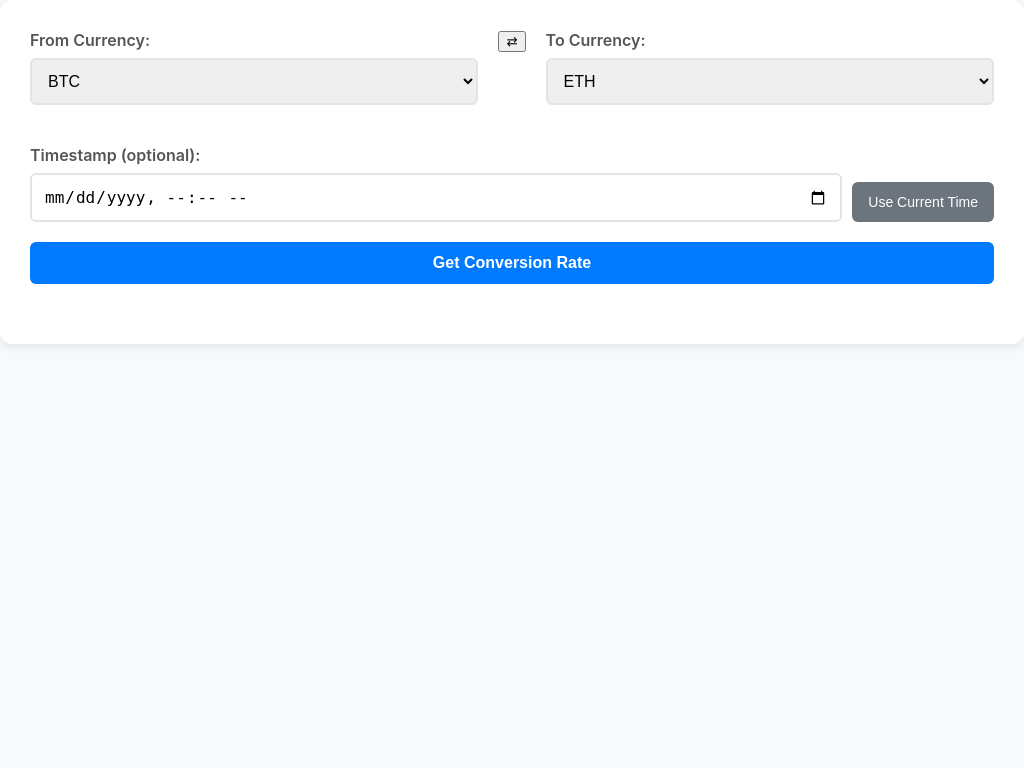
it: CurrencyConverter › should successfully convert currencies
Click the button "Get Conversion Rate" at (512, 263), box [30, 242, 994, 284]
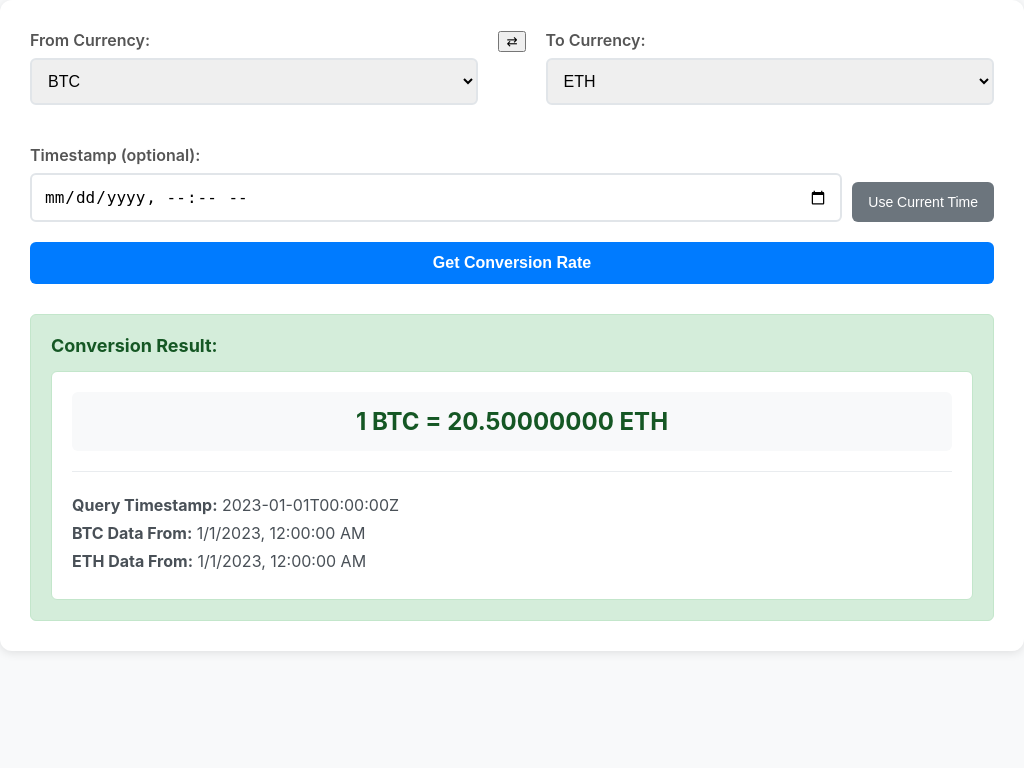
Expected: the heading "Conversion Result:" is shown, [51, 335, 218, 356]
Expected: the text "1 BTC = 20.50000000 ETH" is shown, [356, 407, 668, 436]
